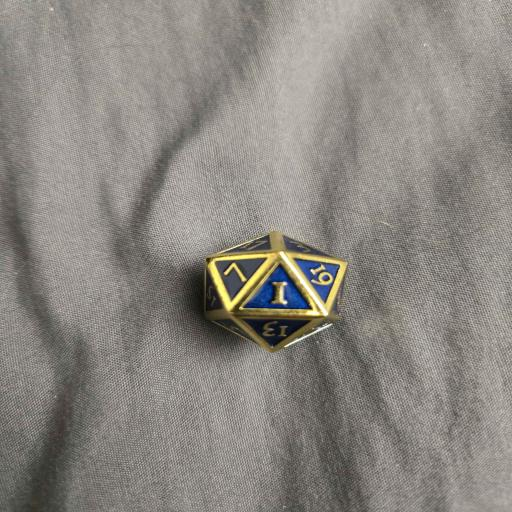twenty sided dice: (205, 231, 347, 352)
